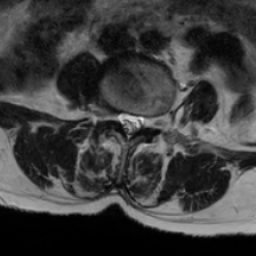CCS_normal: (125, 104, 133, 144)
LFS_normal: (143, 102, 154, 133)
LLS_normal: (133, 104, 143, 136)
RFS_normal: (105, 98, 115, 128)
RLS_stenosis: (115, 102, 125, 132)
